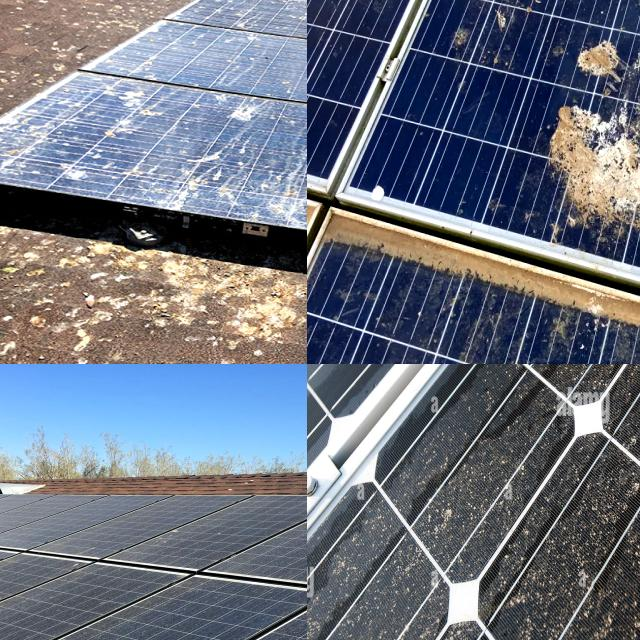bird: (540, 98, 640, 230), (524, 300, 640, 364), (74, 72, 162, 151), (539, 0, 627, 75), (435, 2, 522, 72), (188, 88, 280, 138), (144, 160, 247, 204), (30, 153, 118, 192)
dust: (507, 491, 640, 640), (429, 373, 517, 564), (307, 537, 411, 640), (539, 364, 640, 426), (0, 619, 155, 640), (0, 558, 55, 616)
